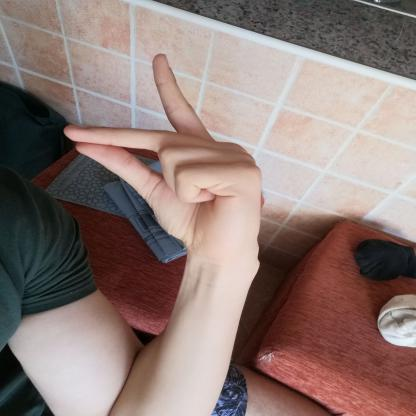TAA: (48, 42, 276, 264)
